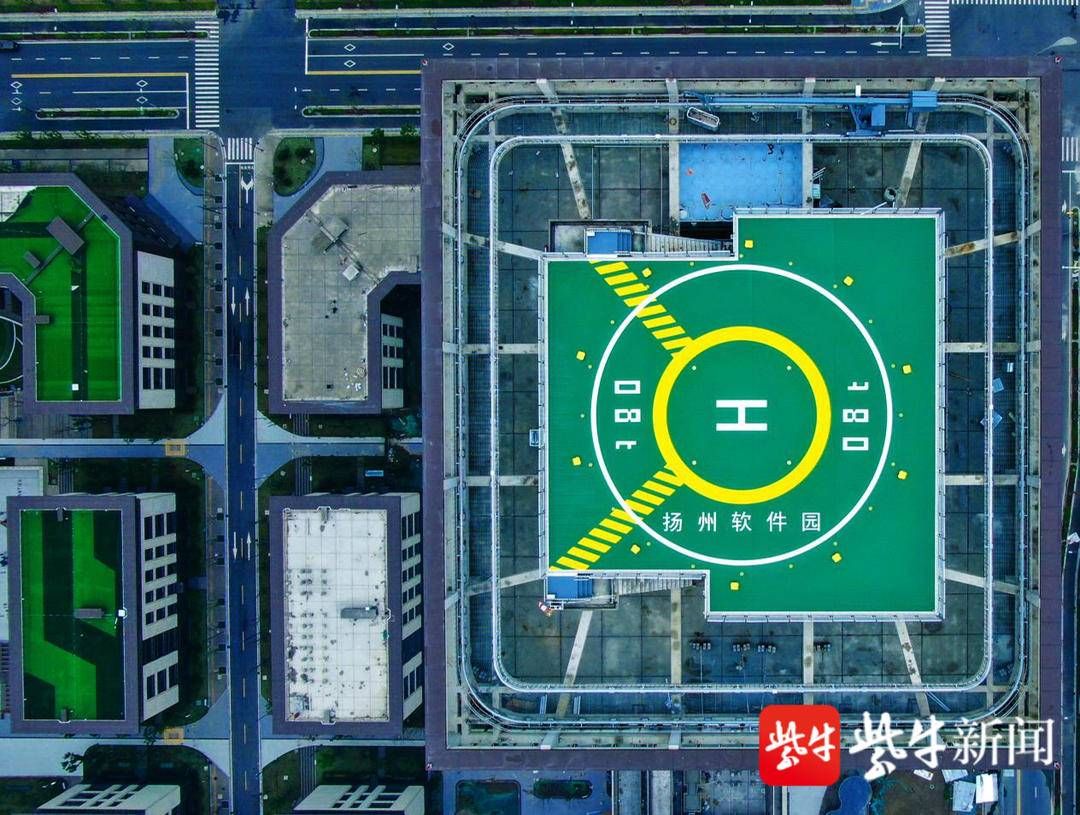Apron: (655, 324, 833, 509)
